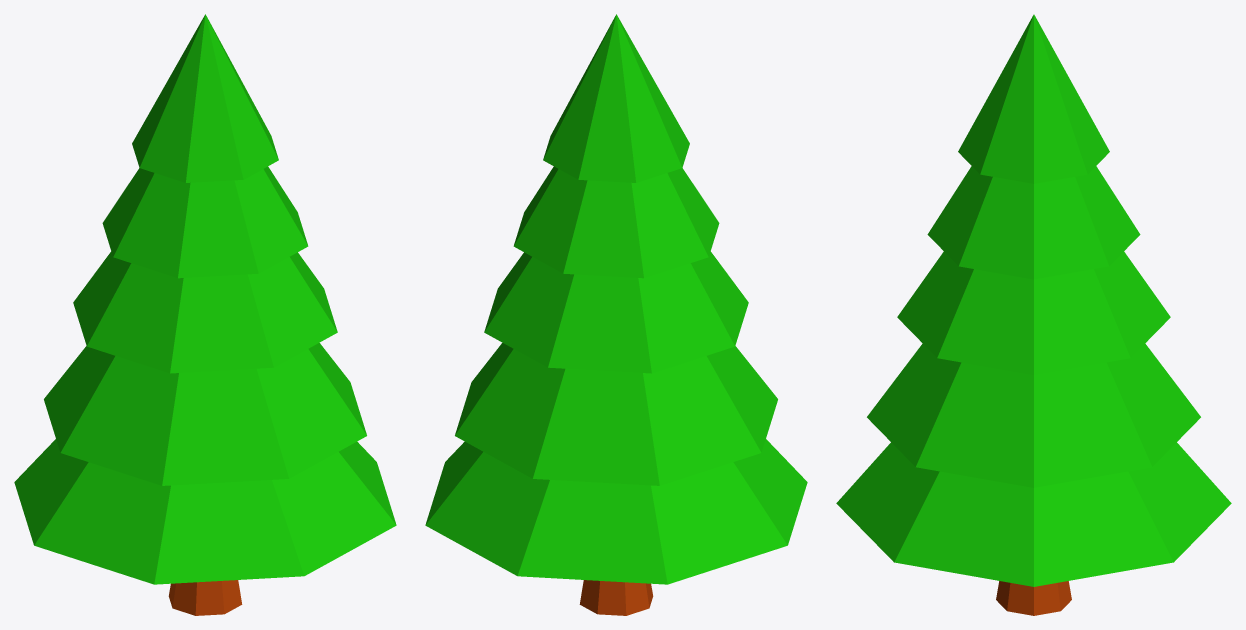
Rendered from tree.obj.
The picture shows the model from 3 angles, left to right: view 1: azimuth 30°, elevation 25°; view 2: azimuth 150°, elevation 25°; view 3: azimuth 270°, elevation 25°; orthographic projection.
Parts seen in each view (by area): view 1: Cone.004, Cone.003, Cone, Cone.002, Cone.001, Cone.005; view 2: Cone.004, Cone.003, Cone, Cone.002, Cone.001, Cone.005; view 3: Cone.004, Cone.003, Cone, Cone.002, Cone.001, Cone.005.
Part boxes in pixels (<box>): Cone.004: <box>14,439,396,584</box>; Cone.003: <box>44,343,366,485</box>; Cone: <box>73,251,337,373</box>; Cone.002: <box>102,166,308,278</box>; Cone.001: <box>132,14,278,182</box>; Cone.005: <box>168,580,242,615</box>; Cone.004: <box>425,439,807,584</box>; Cone.003: <box>455,343,777,485</box>; Cone: <box>484,251,748,373</box>; Cone.002: <box>513,166,719,278</box>; Cone.001: <box>543,14,689,182</box>; Cone.005: <box>579,580,653,615</box>; Cone.004: <box>836,442,1231,586</box>; Cone.003: <box>867,343,1200,487</box>; Cone: <box>897,251,1170,374</box>; Cone.002: <box>927,166,1140,279</box>; Cone.001: <box>958,14,1109,183</box>; Cone.005: <box>996,581,1071,615</box>.
Bounding box in the file's own units: 5.2 × 8.5 × 5.2.
